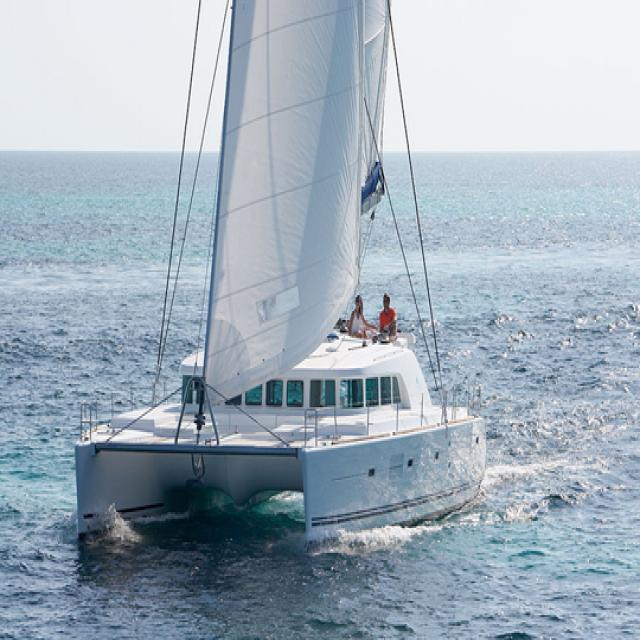Ship: (61, 1, 500, 564)
